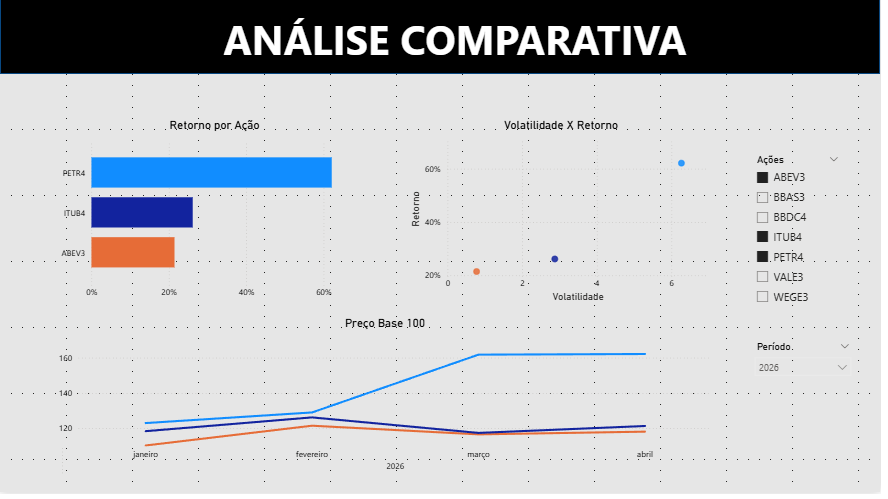

The dashboard page shown, as its layout file describes it:
{"tool":"powerbi","page":{"name":"Comparativo Geral","canvas":[1280,720],"ordinal":0},"visuals":[{"type":"shape","box":[0,0,1280,112],"z":0},{"type":"scatterChart","title":"Volatilidade X Retorno","fields":{"X":["monitoramento_acoes_br_long.Volatilidade"],"Y":["monitoramento_acoes_br_long.Retorno %"],"Category":["monitoramento_acoes_br_long.Ticker"],"Series":["monitoramento_acoes_br_long.Ticker"]},"box":[592,176,448,272],"z":1000},{"type":"barChart","title":"Retorno por Ação","fields":{"Category":["monitoramento_acoes_br_long.Ticker"],"Y":["monitoramento_acoes_br_long.Retorno %"],"Series":["monitoramento_acoes_br_long.Ticker"]},"box":[80,176,464,272],"z":2000},{"type":"slicer","fields":{"Values":["monitoramento_acoes_br_long.Ticker"]},"box":[1088,224,144,240],"z":3000},{"type":"slicer","title":"Período","fields":{"Values":["Calendario.Ano Hierarquia.Ano","Calendario.Ano Hierarquia.Mes","Calendario.Ano Hierarquia.Dia"]},"box":[1088,496,160,64],"z":4000},{"type":"lineChart","title":"Preço Base 100","fields":{"Y":["monitoramento_acoes_br_long.Preco Base 100"],"Series":["monitoramento_acoes_br_long.Ticker"],"Category":["Calendario.Ano Hierarquia.Ano","Calendario.Ano Hierarquia.Mes","Calendario.Ano Hierarquia.Dia"]},"box":[80,464,960,240],"z":5000},{"type":"textbox","box":[320,16,704,112],"z":6000}]}

Visuals, with their boxes in screenshot pixels (x1, y1, x2, y2), scaled from the page's 1280x720 canvas onto the 888x499 screenshot:
shape: locate(0, 0, 887, 78)
"Volatilidade X Retorno" scatterChart: locate(411, 122, 722, 310)
"Retorno por Ação" barChart: locate(56, 122, 377, 310)
slicer - monitoramento_acoes_br_long.Ticker: locate(755, 155, 855, 322)
"Período" slicer: locate(755, 344, 866, 388)
"Preço Base 100" lineChart: locate(56, 322, 722, 488)
textbox: locate(222, 11, 710, 89)
